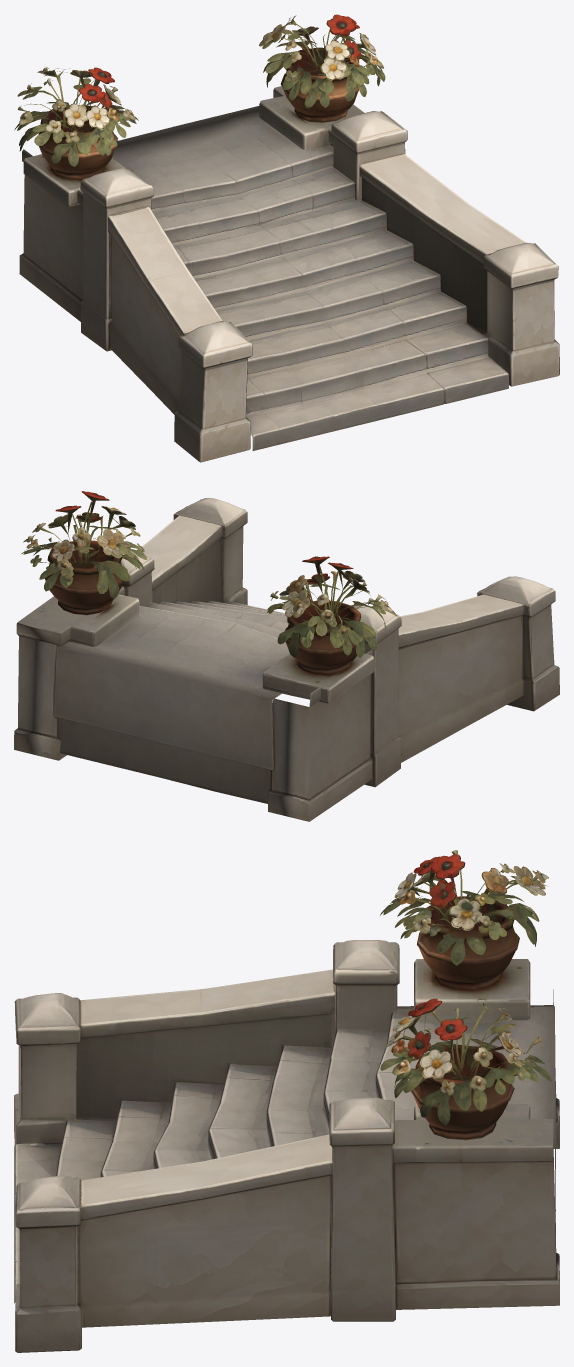
File: act1-a18-6-hilltop-steps.glb
3 views of the same model, one above another, from view 1: azimuth 30°, elevation 25°; view 2: azimuth 150°, elevation 25°; view 3: azimuth 270°, elevation 25° (orthographic). The views are drawn at different scales.
Visible parts, largest first — view 1: act1-a18-6-hilltop-steps; view 2: act1-a18-6-hilltop-steps; view 3: act1-a18-6-hilltop-steps.
Part boxes in pixels (x1,y1,x2,y2): act1-a18-6-hilltop-steps: (14, 14, 559, 462); act1-a18-6-hilltop-steps: (14, 491, 559, 821); act1-a18-6-hilltop-steps: (14, 850, 559, 1352).
Bounding box in the file's own units: 4 × 2.61 × 4.06.
1 material, 1 textured.
